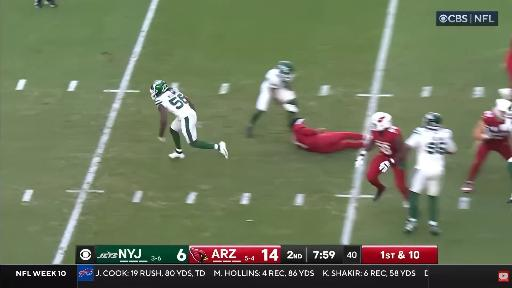Helmet: (371, 112, 392, 131), (276, 61, 294, 81), (150, 80, 168, 99), (494, 99, 511, 119), (423, 113, 442, 127), (498, 88, 511, 100)
Jersey: (406, 128, 456, 171), (155, 88, 194, 118), (372, 126, 401, 158), (482, 111, 509, 141), (293, 124, 318, 148), (262, 69, 284, 88)
Player: (405, 113, 456, 235), (150, 80, 228, 158), (356, 112, 409, 207), (461, 99, 511, 192), (246, 61, 298, 137), (292, 119, 366, 153), (499, 38, 511, 100), (508, 158, 511, 179)
